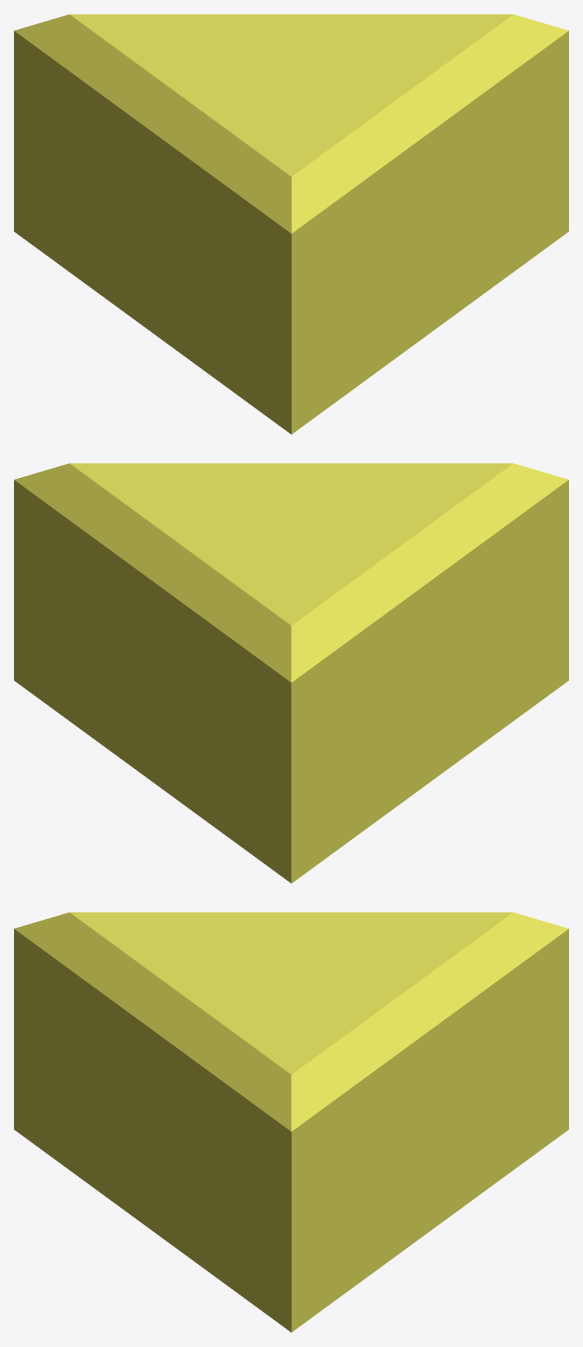
File: BtnTri01.fbx
3 renders of one model, top to bottom at view 1: azimuth 30°, elevation 25°; view 2: azimuth 150°, elevation 25°; view 3: azimuth 270°, elevation 25°, orthographic.
Parts seen in each view (by area): view 1: BtnTri01; view 2: BtnTri01; view 3: BtnTri01.
Part boxes in pixels (left/top/right/bottom): BtnTri01: left=14, top=14, right=568, bottom=434; BtnTri01: left=14, top=463, right=568, bottom=883; BtnTri01: left=14, top=912, right=568, bottom=1332.
Size of the model in its own units: 1.89 by 1 by 2.18.
